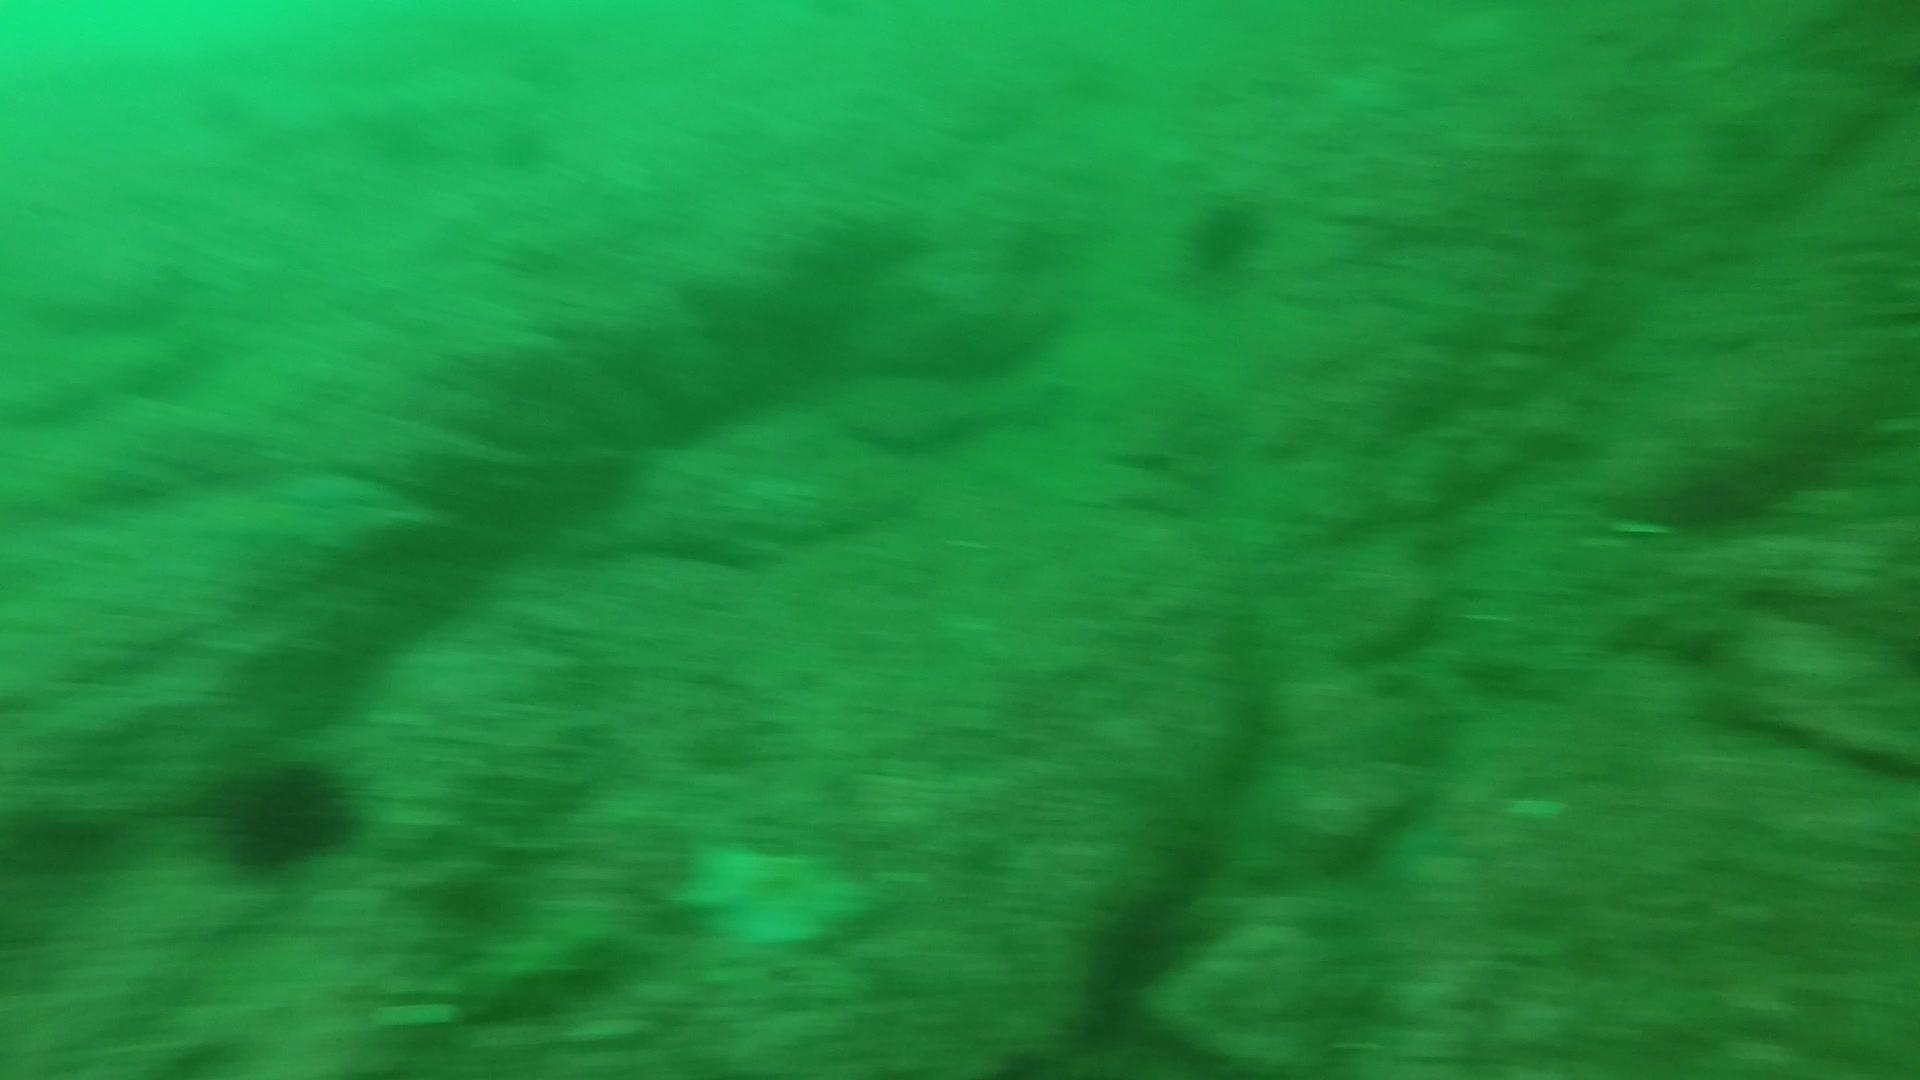echinus: (211, 750, 359, 878), (1178, 187, 1271, 280)
holothurian: (460, 907, 645, 1001)
starfish: (669, 828, 884, 957)
